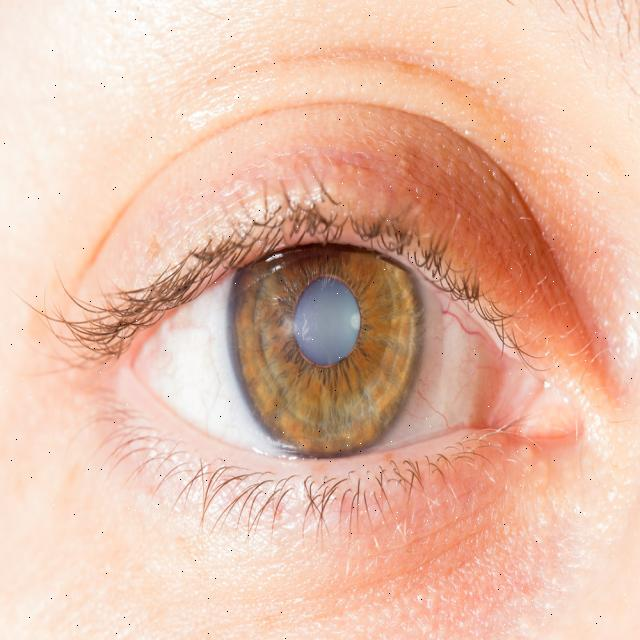Cataract: (231, 192, 420, 463)
